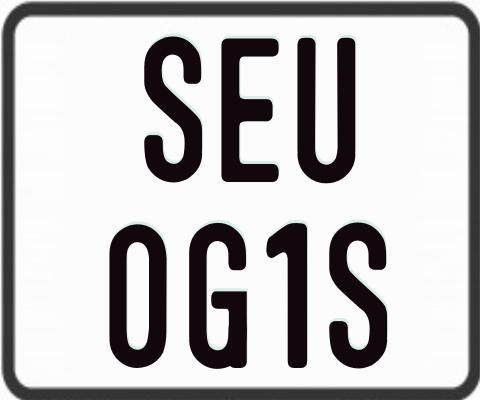0: (106, 222, 165, 370)
1: (263, 223, 308, 373)
E: (221, 36, 279, 184)
G: (186, 222, 247, 368)
S: (328, 222, 391, 373), (144, 35, 207, 182)
U: (295, 37, 356, 184)
